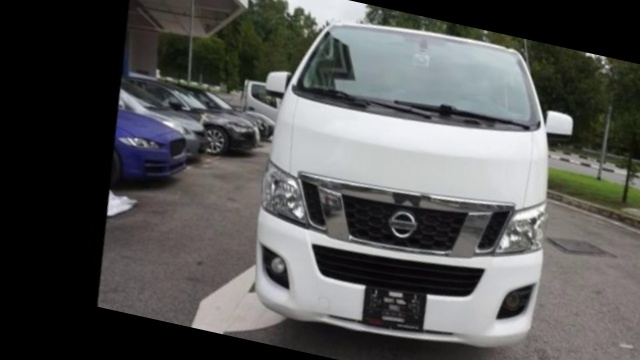van: (202, 0, 596, 360)
